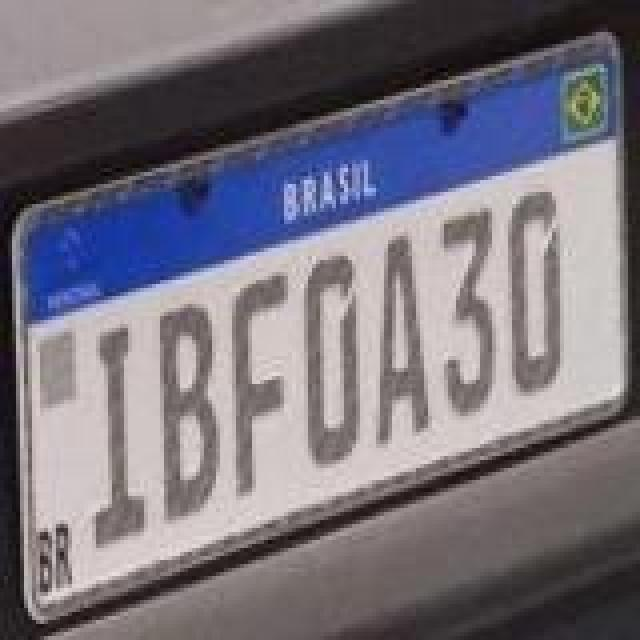3: (440, 204, 496, 420)
A: (372, 234, 428, 446)
B: (160, 300, 224, 524)
D: (306, 252, 366, 468), (508, 184, 564, 400)
F: (232, 272, 288, 496)
I: (94, 322, 146, 550)
